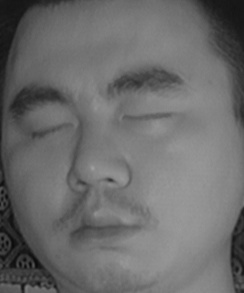blink: (122, 98, 176, 133), (28, 110, 75, 145)
mouth: (58, 199, 144, 256)
